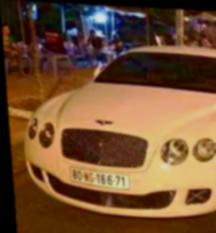License_Plate: (69, 165, 131, 192)
